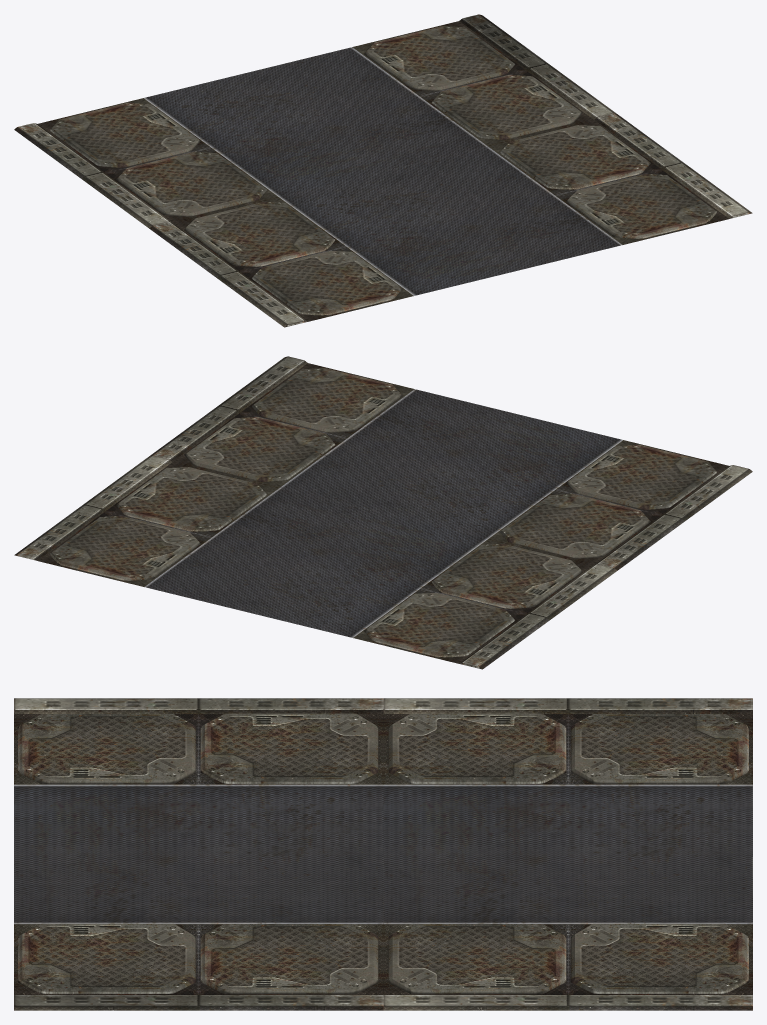
File: Floor_D_5mts_05.fbx
The picture shows the model from 3 angles, top to bottom: view 1: azimuth 30°, elevation 25°; view 2: azimuth 150°, elevation 25°; view 3: azimuth 270°, elevation 25°; orthographic projection. The views are drawn at different scales.
Visible parts, largest first — view 1: Floor_D_5mts_05; view 2: Floor_D_5mts_05; view 3: Floor_D_5mts_05.
Boxes of the visible parts, <box> form: Floor_D_5mts_05: <box>14,14,752,327</box>; Floor_D_5mts_05: <box>14,356,752,669</box>; Floor_D_5mts_05: <box>14,698,752,1010</box>.
Bounding box in the file's own units: 500 × 2.21 × 500.
1 material, 1 textured.
